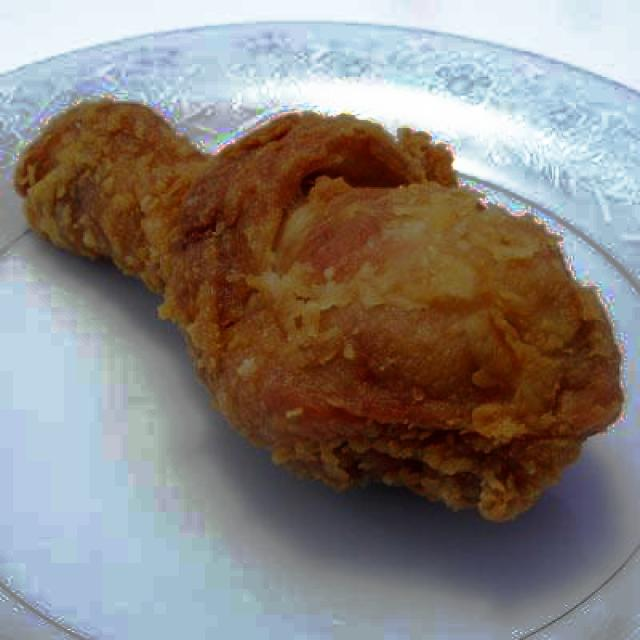fried_chicken: (14, 61, 640, 582)
